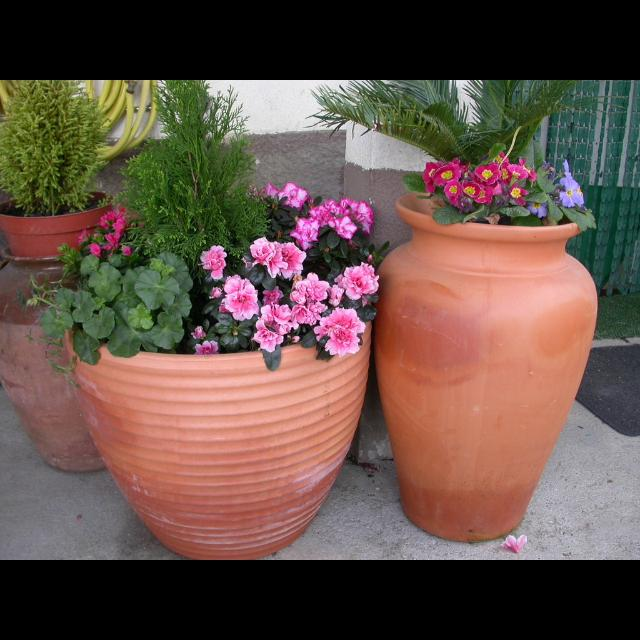Flower: (220, 196, 380, 356), (423, 154, 584, 218), (92, 202, 144, 254), (262, 175, 316, 218), (200, 245, 228, 278), (195, 340, 218, 354), (242, 183, 258, 199), (75, 228, 92, 242), (190, 324, 204, 340), (210, 286, 222, 296)
